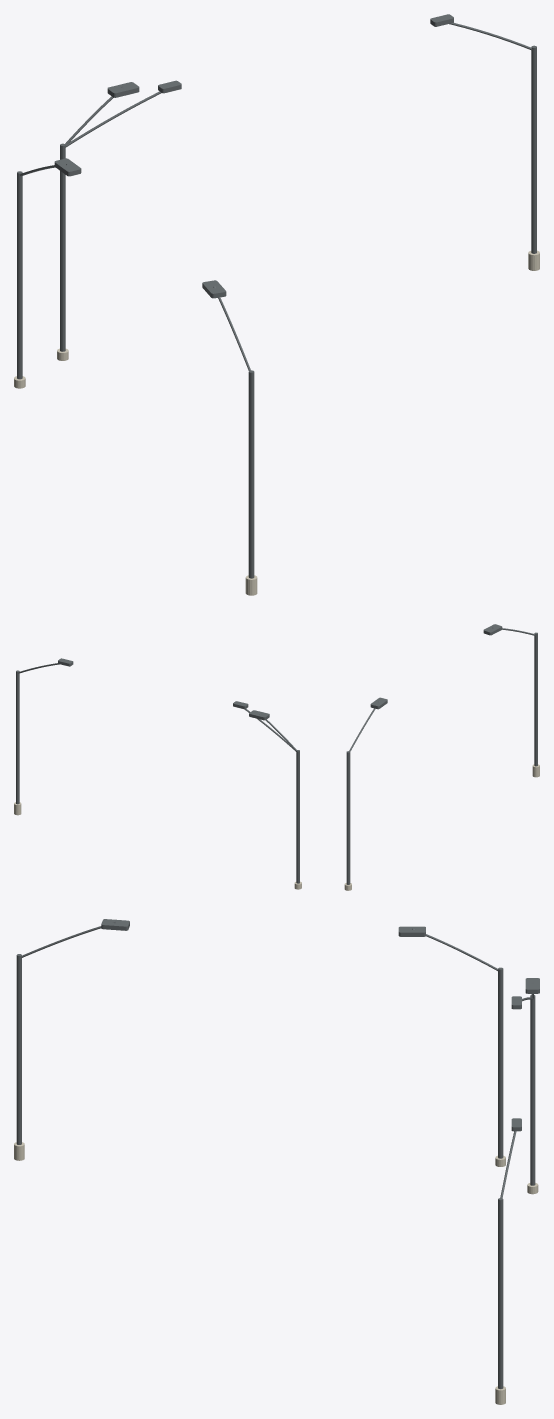
3 views of the same model, one above another, from view 1: azimuth 30°, elevation 25°; view 2: azimuth 150°, elevation 25°; view 3: azimuth 270°, elevation 25° (orthographic). The views are drawn at different scales.
Visible parts, largest first — view 1: buildings_s_1_4_Dark_Metal, buildings_s_1_4_Warm_Limestone; view 2: buildings_s_1_4_Dark_Metal; view 3: buildings_s_1_4_Dark_Metal, buildings_s_1_4_Warm_Limestone.
Part boxes in pixels (left/top/right/bottom): buildings_s_1_4_Dark_Metal: left=17, top=14, right=536, bottom=578; buildings_s_1_4_Warm_Limestone: left=14, top=250, right=539, bottom=595; buildings_s_1_4_Dark_Metal: left=16, top=624, right=537, bottom=884; buildings_s_1_4_Dark_Metal: left=16, top=919, right=539, bottom=1389; buildings_s_1_4_Warm_Limestone: left=14, top=1142, right=538, bottom=1404.
Bounding box in the file's own units: 36.67 × 16.75 × 32.79.
